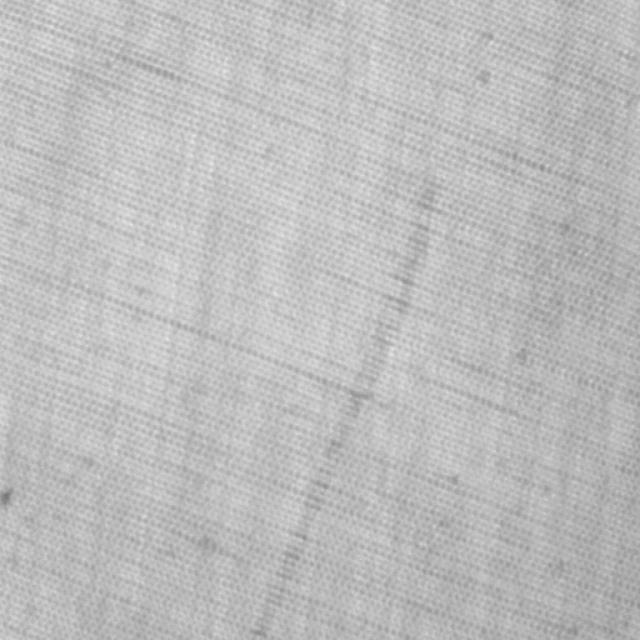oil spot: (249, 163, 443, 635)
